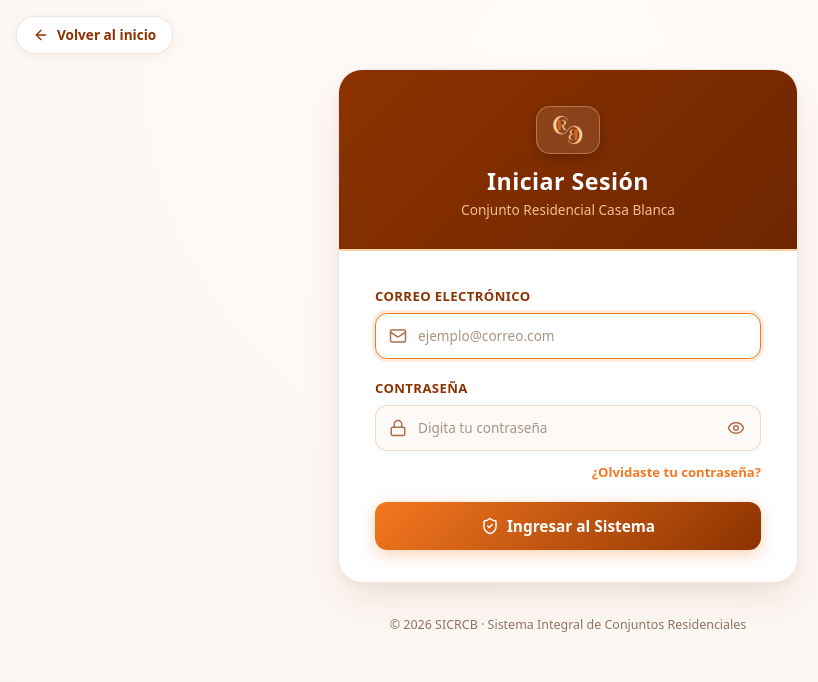
Scenario: Pruebas de Caja Negra - Login y Autenticación (UI) › CP-UI-09: Debe bloquear el acceso con POST (403) cuando la cuenta está Inactiva
Type "inactivo@casablanca.com" into the field with placeholder "ejemplo@correo.com" at {"x": 568, "y": 336}, box [375,313,761,359]
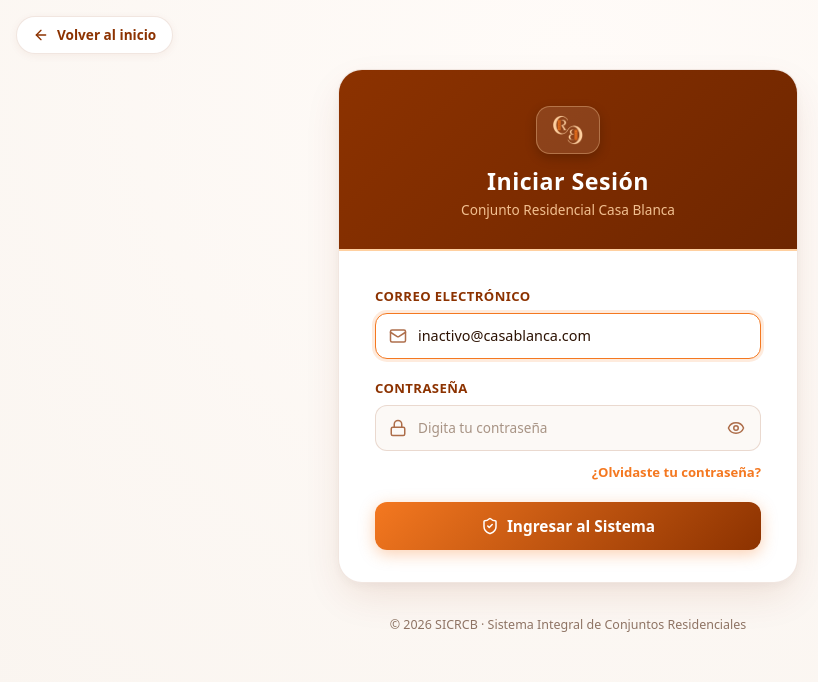
Type "Clave123*" into the password field with placeholder "Digita tu contraseña" at {"x": 568, "y": 428}, box [375,405,761,451]
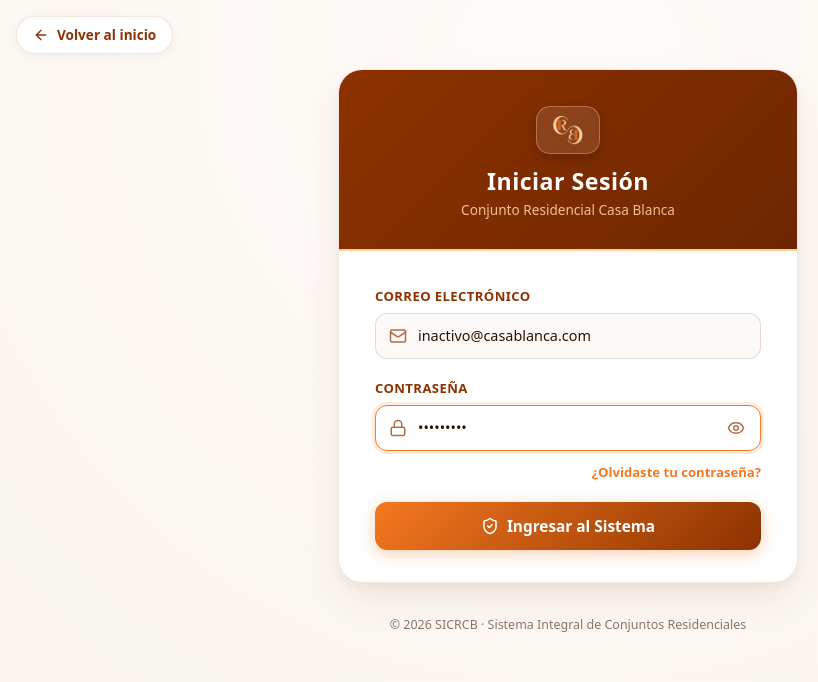
Click the button "Ingresar al Sistema" at {"x": 568, "y": 527}, box [375,503,761,551]
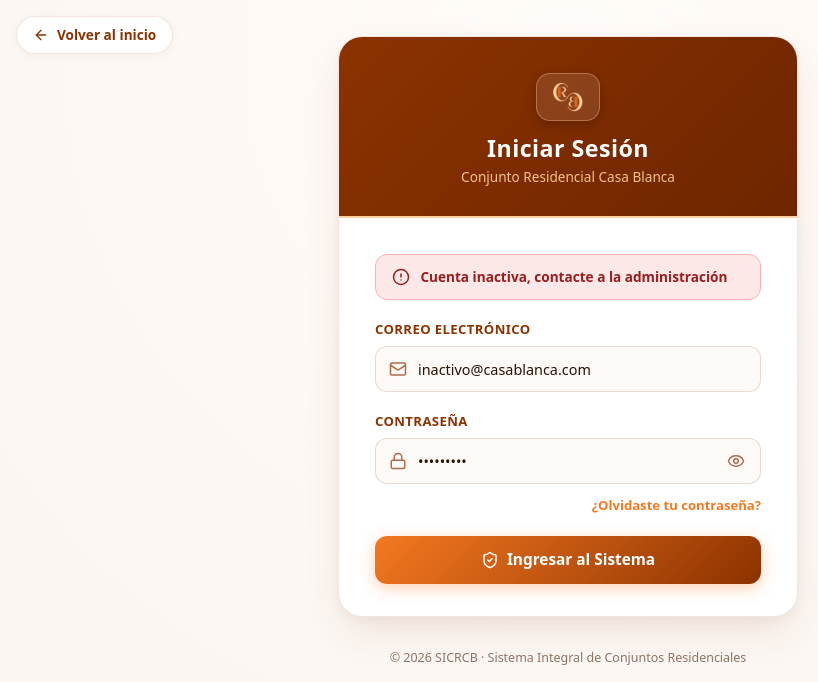
Expected: the text "Cuenta inactiva, contacte a la administración" is shown, [420,267,727,287]
